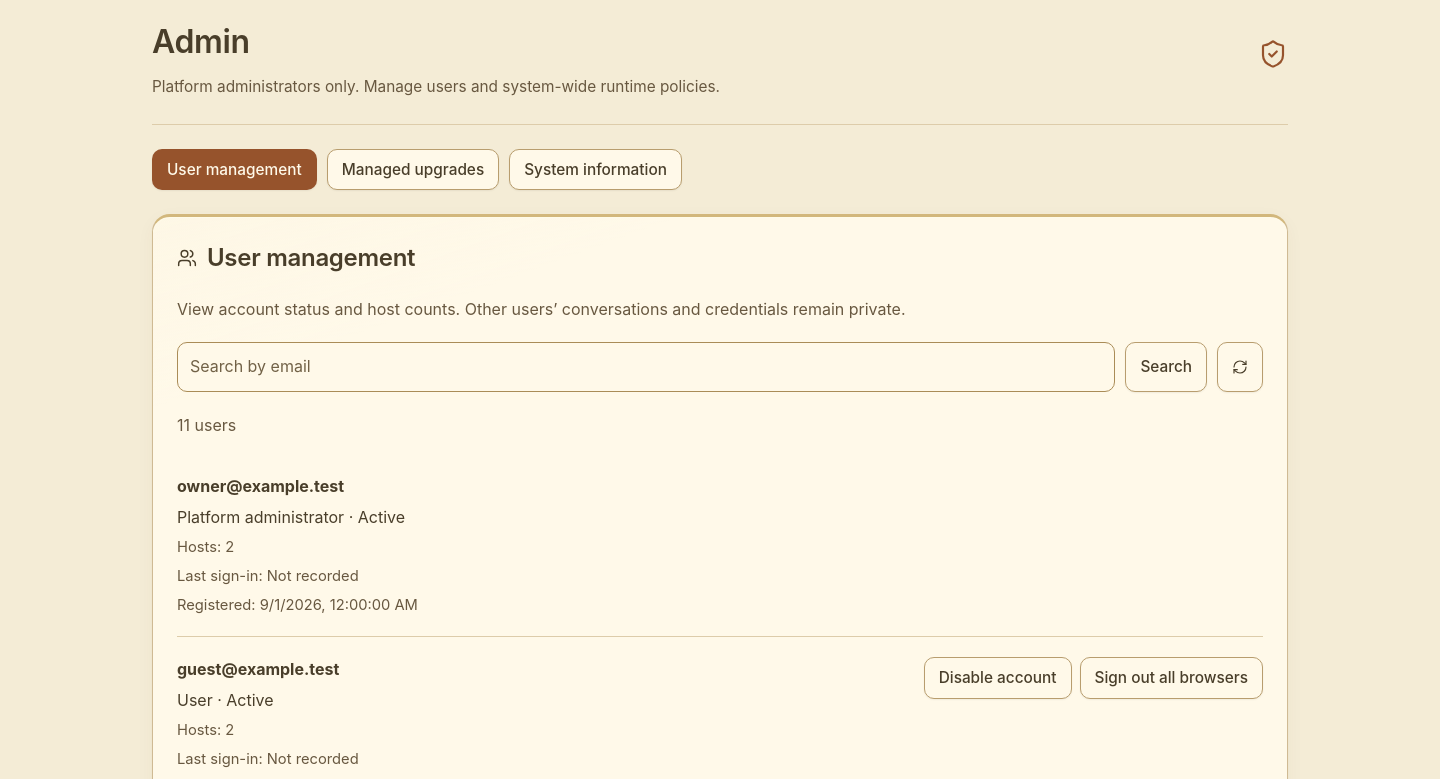
Scenario: admin user actions require explicit confirmation and the administrator is protected
Expected: the text "guest@example.test" is shown, [177,659,339,679]
Click the button "Disable account": point(998, 678) [924,657,1072,699]
(page scrolled)
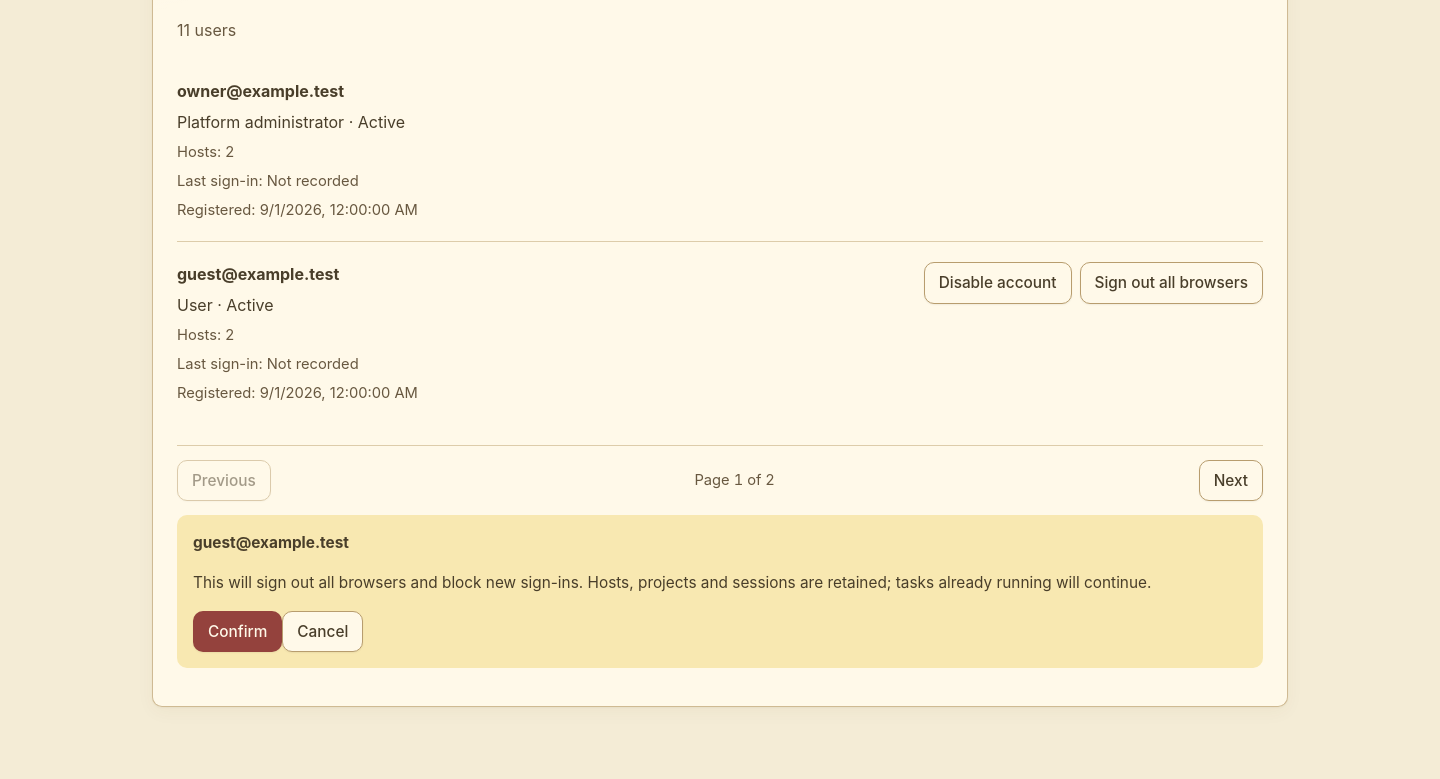
Now the element named "Confirm account action" is shown, box [177,515,1263,668]
Click the button "Confirm": point(238, 632) [193,611,282,652]
(page scrolled)
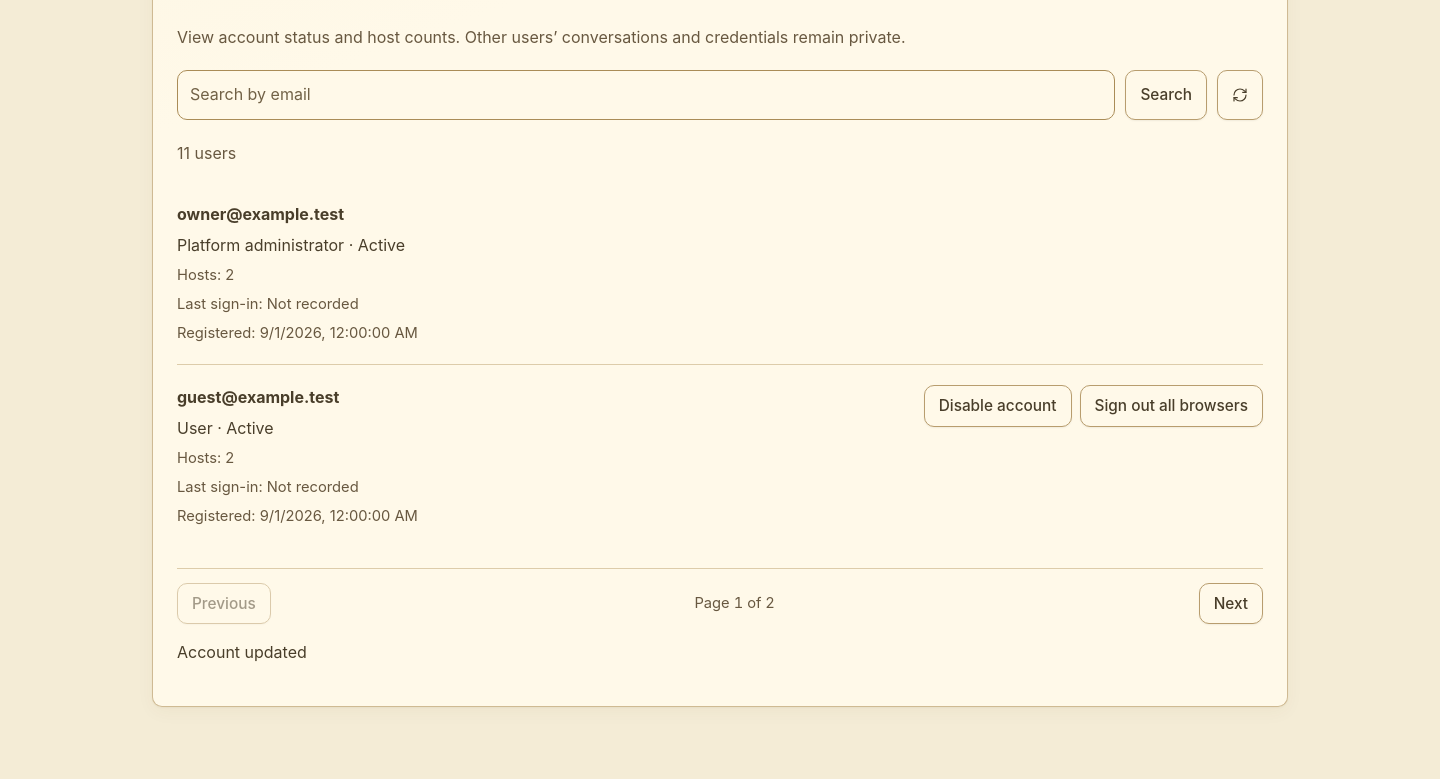
Now the text "Account updated" is shown, box [177,642,307,662]
